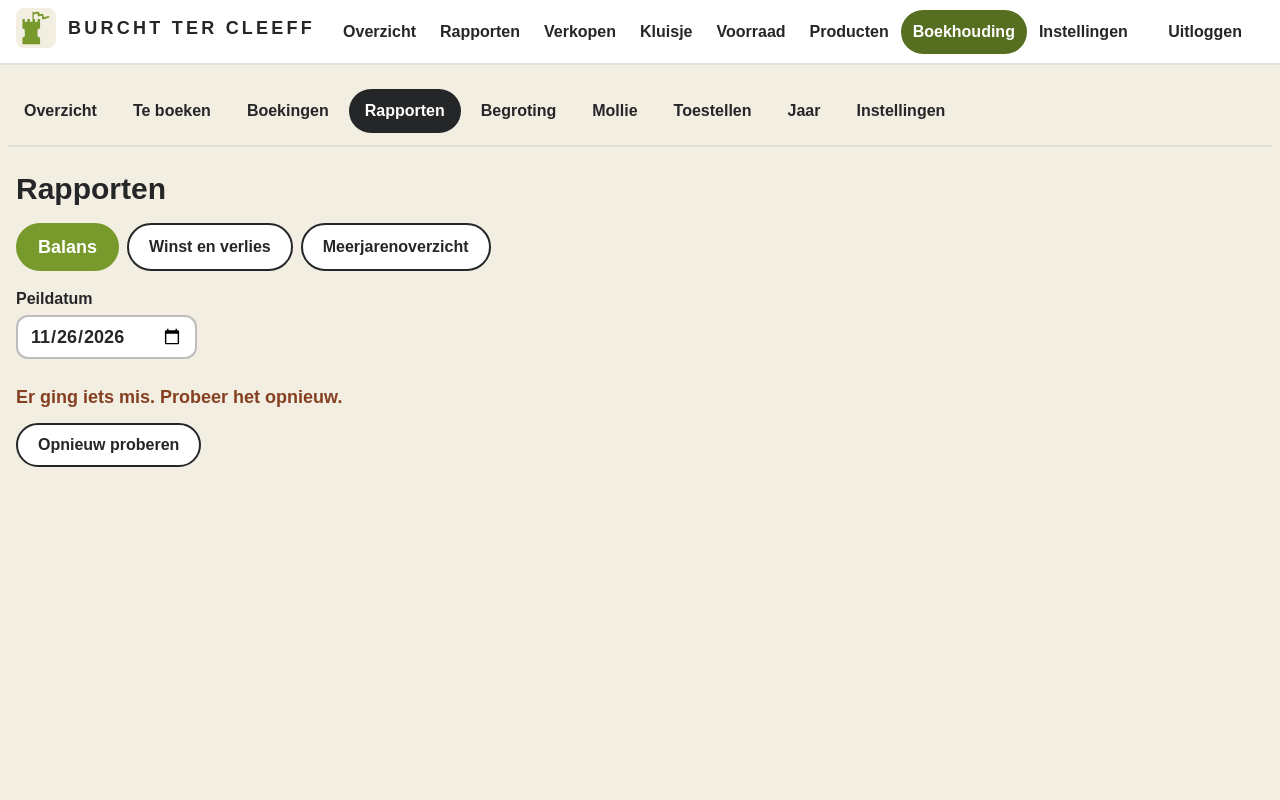
Test: lays the years next to each other in the Meerjarenoverzicht, the earlier years marked as from e-Boekhouden
Click the button "Meerjarenoverzicht": (396, 247) [301,223,490,271]
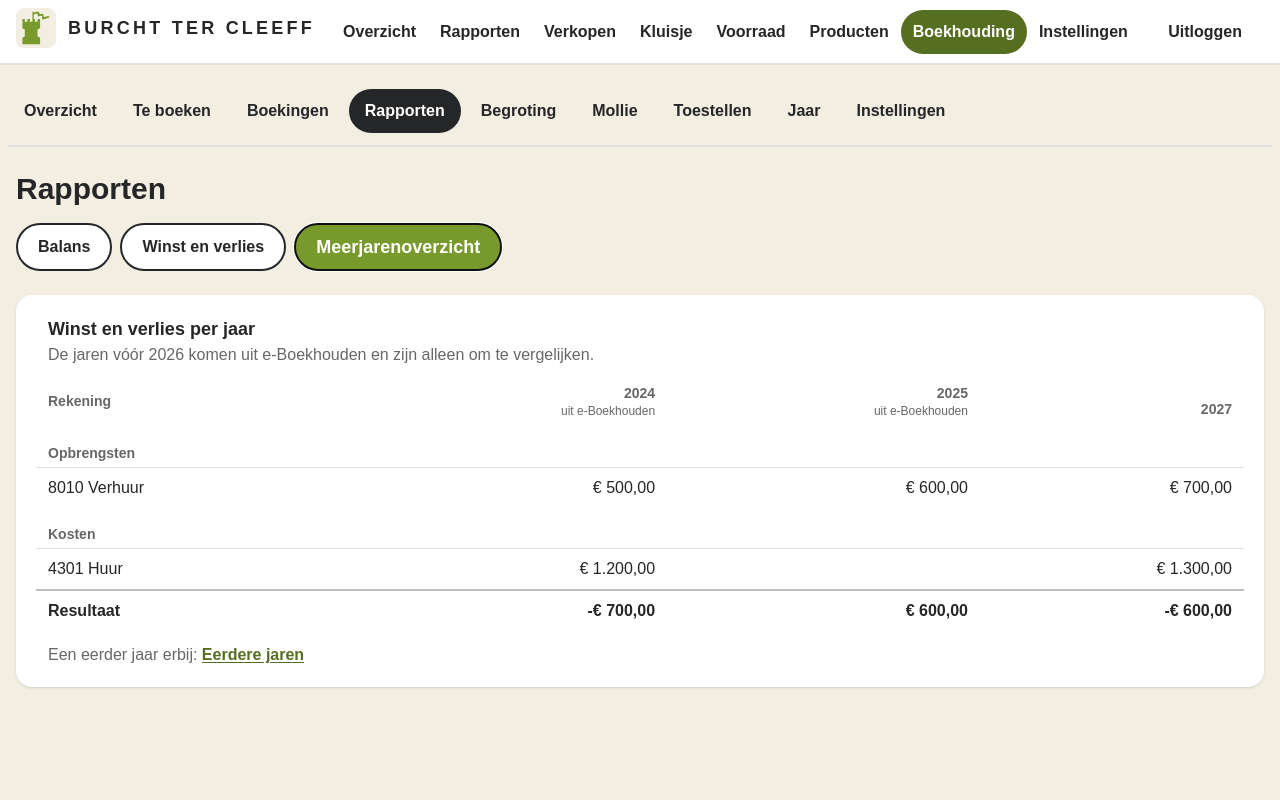
Result: the column heading "2024 uit e-Boekhouden" is shown at [354,375,667,427]
Result: the column heading "2025 uit e-Boekhouden" is shown at [667,375,980,427]
Result: the column heading "2027" is shown at [980,375,1244,427]
